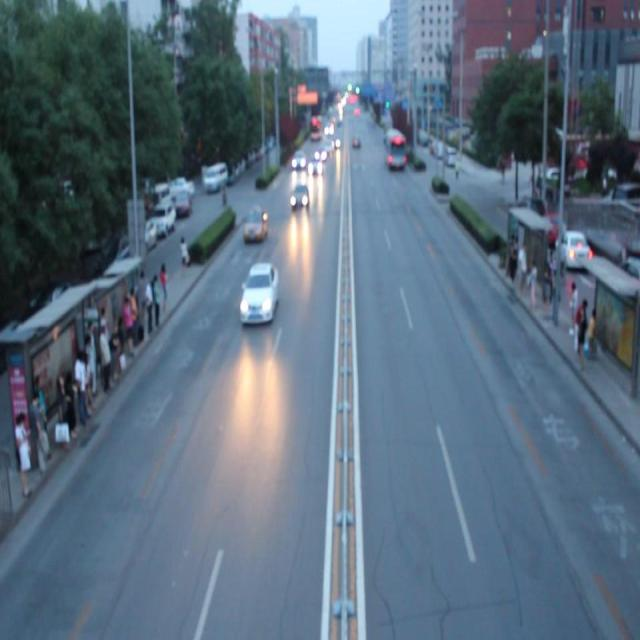car: (238, 259, 277, 326), (244, 202, 266, 240), (290, 181, 309, 210), (291, 150, 305, 168), (307, 159, 322, 175)
van: (381, 128, 406, 167)
